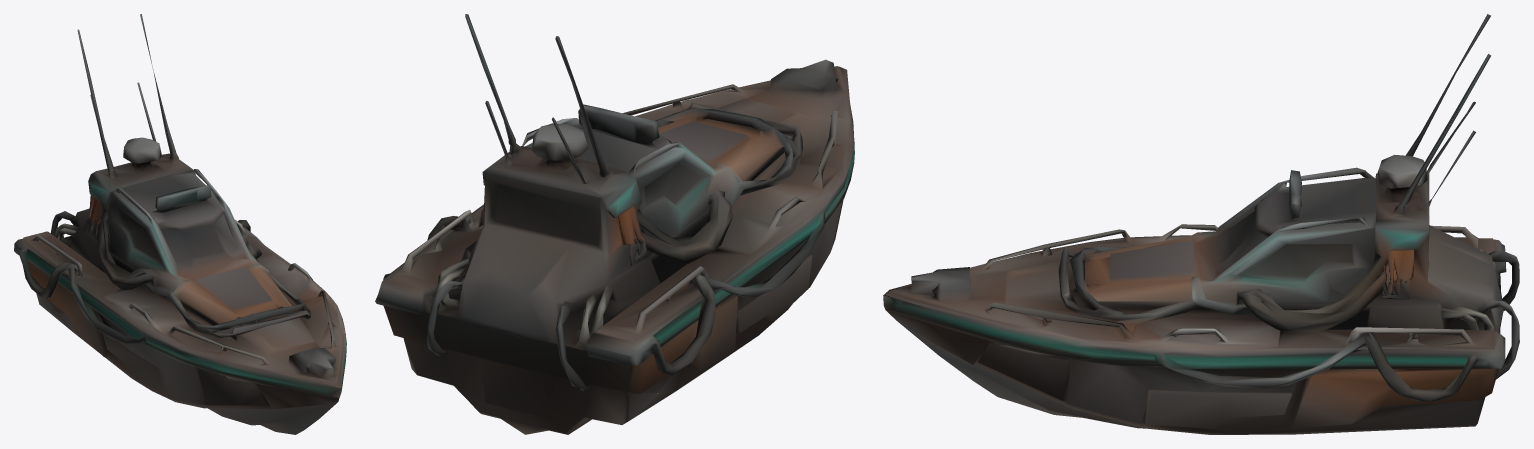
Rendered from patrol_boat_lo.glb.
The picture shows the model from 3 angles, left to right: view 1: azimuth 30°, elevation 25°; view 2: azimuth 150°, elevation 25°; view 3: azimuth 270°, elevation 25°; orthographic projection. The views are drawn at different scales.
Parts seen in each view (by area): view 1: car; view 2: car; view 3: car.
Part boxes in pixels (x1,y1,x2,y2): car: (14, 14, 346, 434); car: (375, 14, 854, 434); car: (883, 14, 1519, 434).
Bounding box in the file's own units: 4.3 × 6.05 × 8.99.
